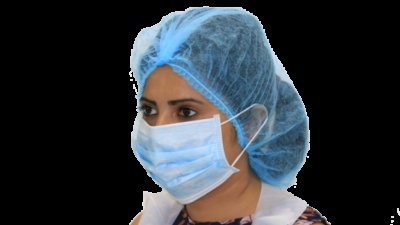mask: (109, 7, 315, 197)
